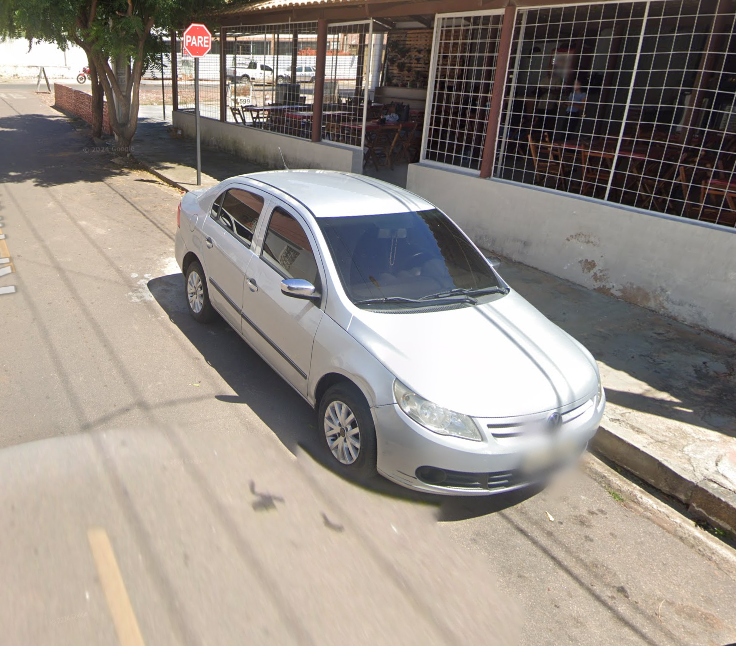car: (168, 152, 616, 536)
